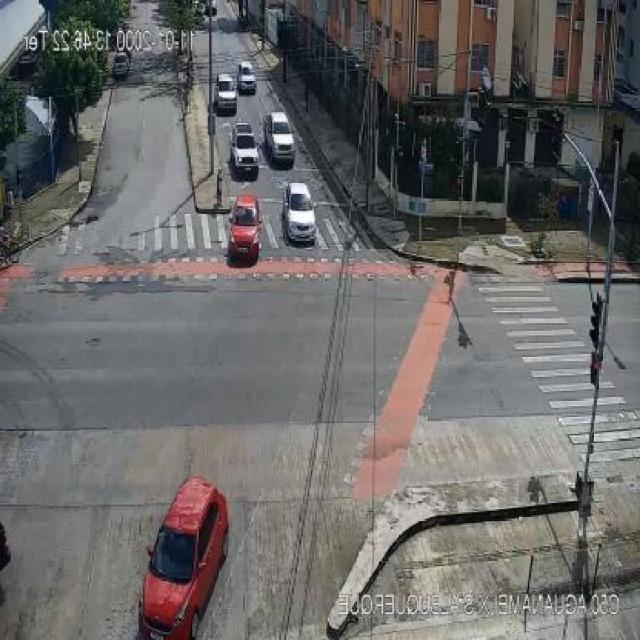Car: (137, 477, 228, 635), (227, 195, 262, 262), (283, 183, 315, 243), (230, 122, 260, 174), (215, 73, 237, 113), (237, 62, 256, 94), (112, 52, 130, 79)
Truck: (264, 112, 295, 165)
